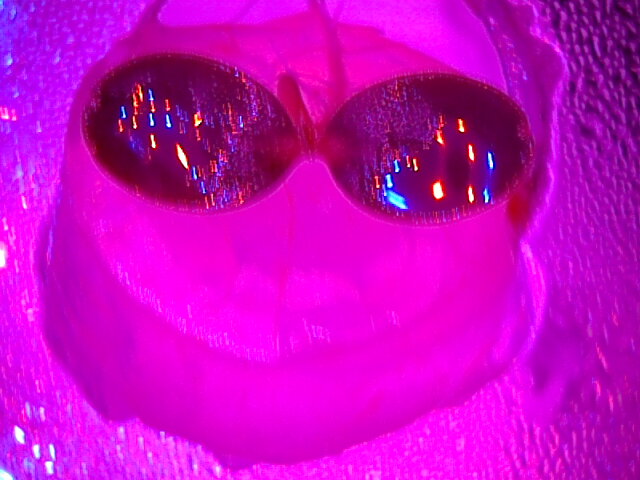seedling: (83, 69, 528, 236)
